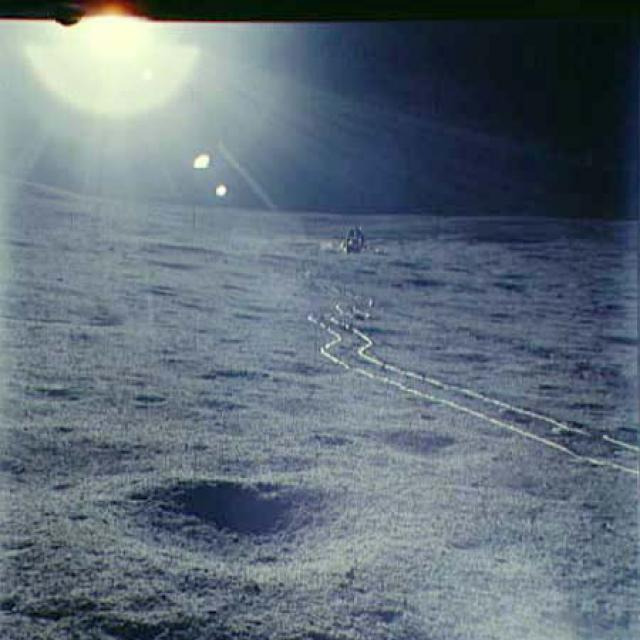crater: (86, 458, 416, 591), (338, 399, 494, 481), (0, 287, 145, 340), (27, 362, 98, 425), (203, 360, 278, 388), (187, 396, 269, 420), (122, 378, 180, 409)
